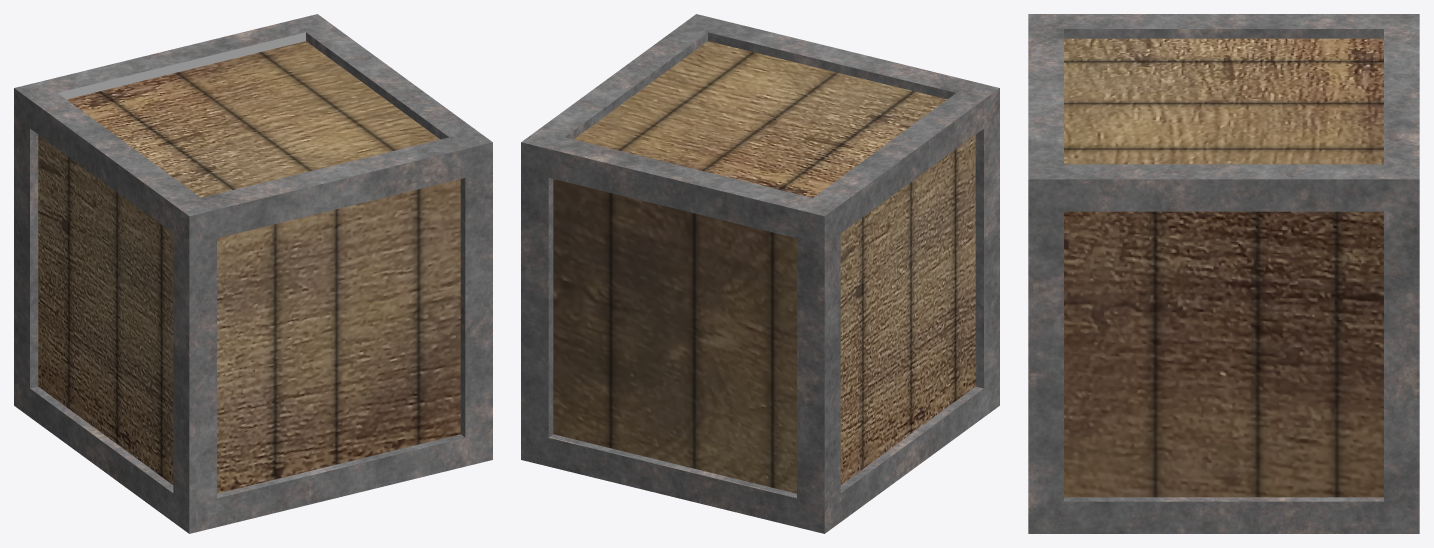
Rendered from Crate.fbx.
3 views of the same model, side by side, from view 1: azimuth 30°, elevation 25°; view 2: azimuth 150°, elevation 25°; view 3: azimuth 270°, elevation 25° (orthographic). The views are drawn at different scales.
Visible parts, largest first — view 1: Crate; view 2: Crate; view 3: Crate.
Part boxes in pixels (x1,y1,x2,y2): Crate: (14, 14, 492, 533); Crate: (521, 14, 999, 533); Crate: (1028, 14, 1419, 533).
Size of the model in its own units: 2 by 2 by 2.
1 material, 1 textured.
